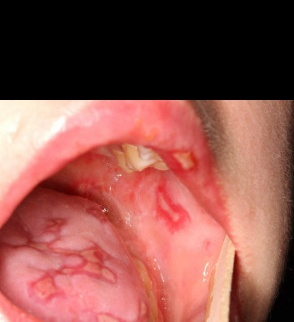SJS-TEN: (0, 100, 268, 322)
